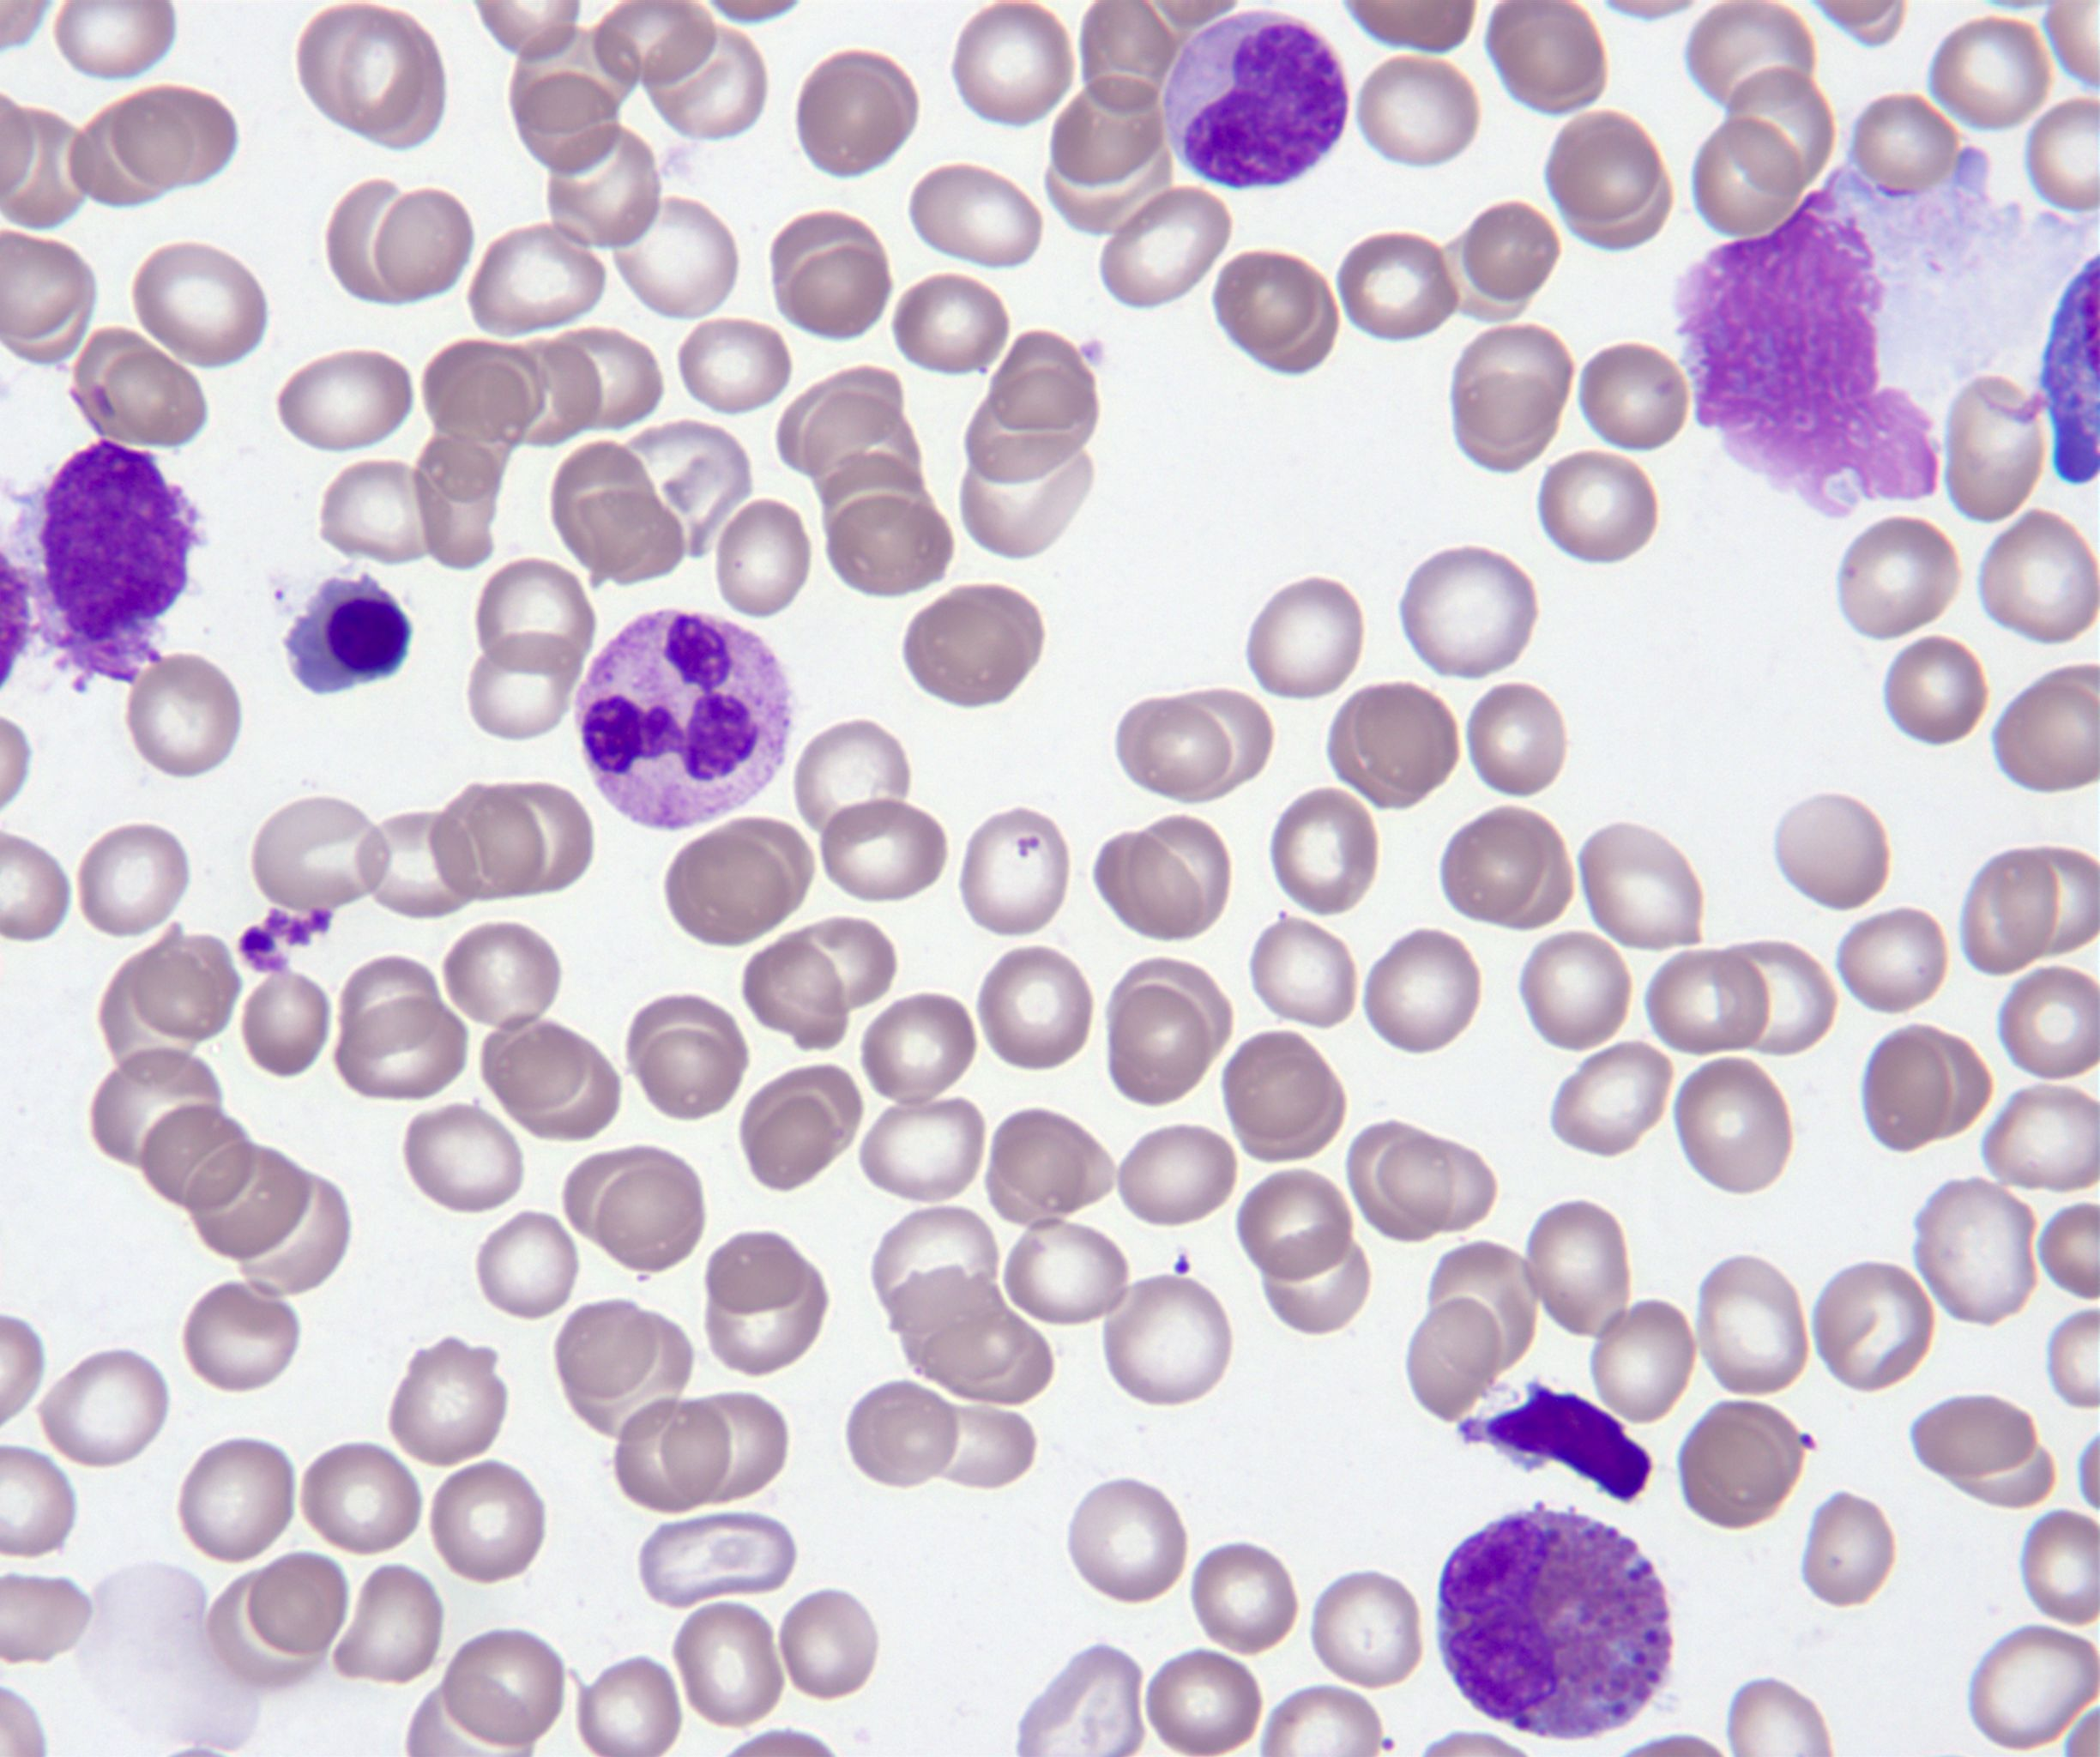24: (283, 574, 412, 694)
3: (1162, 10, 1347, 188)
32: (1462, 1380, 1652, 1501)
6: (576, 609, 792, 831)
E4: (1437, 1514, 1671, 1740)
x: (1669, 148, 2100, 515), (9, 441, 202, 694)
